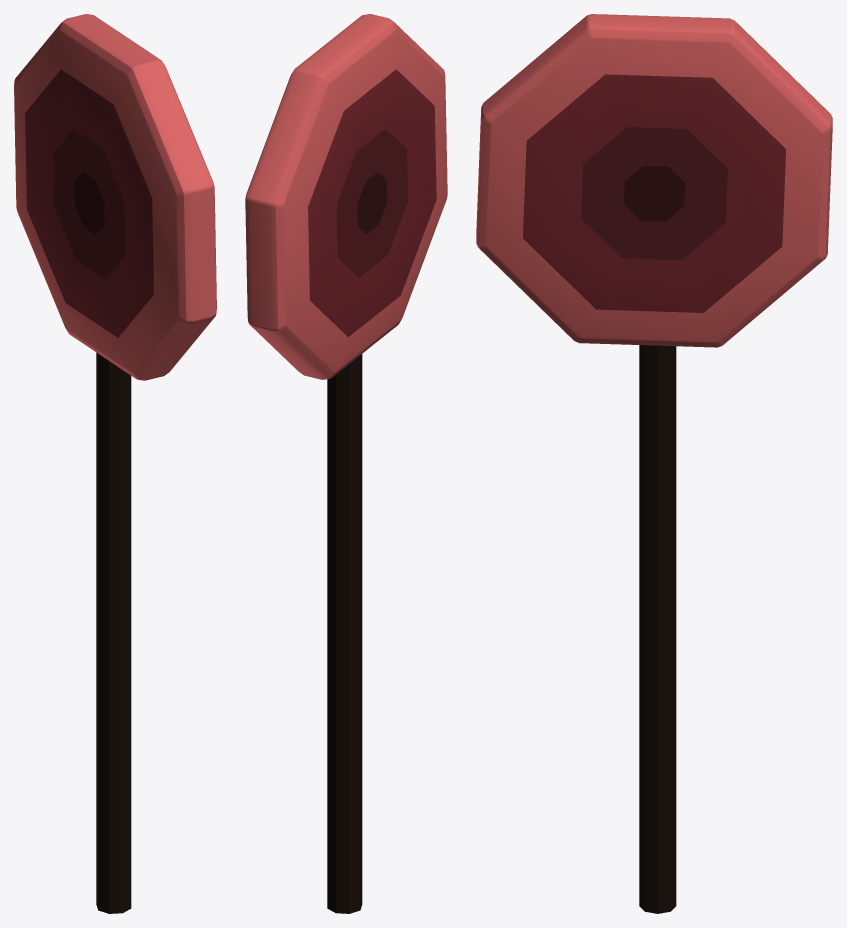
File: SM_Lolly_Red.fbx
The picture shows the model from 3 angles, left to right: view 1: azimuth 30°, elevation 25°; view 2: azimuth 150°, elevation 25°; view 3: azimuth 270°, elevation 25°; orthographic projection. The views are drawn at different scales.
Visible parts, largest first — view 1: SM_Lolly_Red; view 2: SM_Lolly_Red; view 3: SM_Lolly_Red.
Boxes of the visible parts, x1=… form: SM_Lolly_Red: x1=14, y1=14, x2=216, y2=913; SM_Lolly_Red: x1=245, y1=14, x2=447, y2=913; SM_Lolly_Red: x1=476, y1=14, x2=832, y2=913.
Size of the model in its own units: 0.6843 by 10.95 by 3.99.
